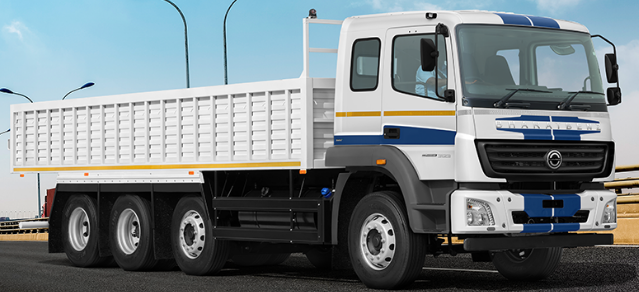truck: (9, 6, 625, 290)
